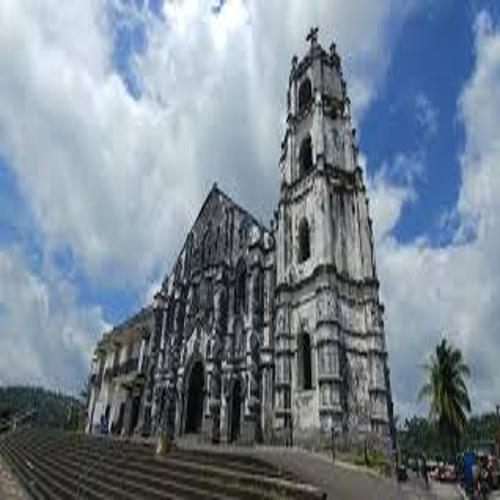Daraga Church: (153, 19, 401, 474)
